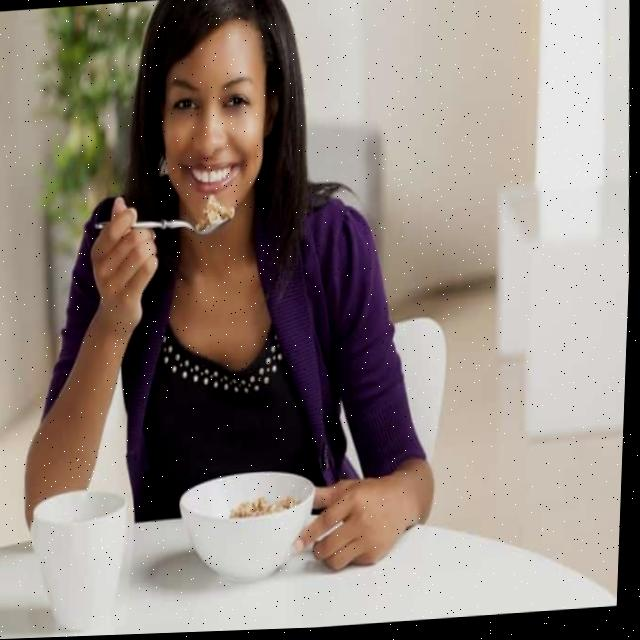eating-person: (4, 0, 458, 630)
